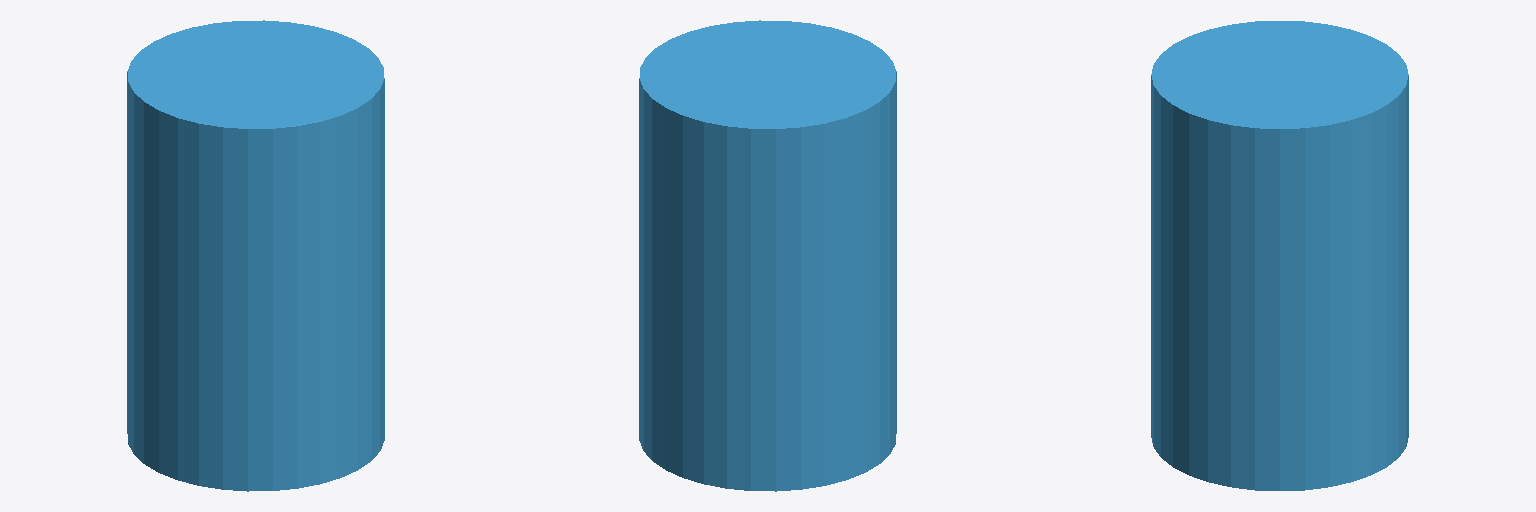
The robot description file, URDF, robot "service_roboter":
<?xml version="1.0" ?>
<!-- =================================================================================== -->
<!-- |    This document was autogenerated by xacro from /data/service_roboter.urdf.xacro | -->
<!-- |    EDITING THIS FILE BY HAND IS NOT RECOMMENDED                                 | -->
<!-- =================================================================================== -->
<robot name="service_roboter">
  <link name="base_link"/>
  <link name="barrel_link">
    <visual>
      <origin rpy="0.0 0.0 0.0" xyz="0.0 0.0 0.45"/>
      <geometry>
        <cylinder length="0.9" radius="0.29"/>
      </geometry>
    </visual>
    <collision>
      <origin rpy="0.0 0.0 0.0" xyz="0.0 0.0 0.45"/>
      <geometry>
        <cylinder length="0.9" radius="0.29"/>
      </geometry>
    </collision>
  </link>
  <joint name="barrel_joint" type="fixed">
    <parent link="base_link"/>
    <child link="barrel_link"/>
    <origin rpy="0.0 0.0 0.0" xyz="0.0 0.0 0.0"/>
  </joint>
  <link name="wheel_left_link">
    <visual>
      <origin rpy="1.5707963267948966 0.0 0.0" xyz="0.0 0.0 0.0"/>
      <geometry>
        <cylinder length="0.05" radius="0.15"/>
      </geometry>
    </visual>
  </link>
  <joint name="wheel_left_joint" type="continuous">
    <parent link="base_link"/>
    <child link="wheel_left_link"/>
    <axis xyz="0 1 0"/>
    <origin rpy="0.0 0.0 0.0" xyz="0.0 0.145 0.09999999999999999"/>
  </joint>
  <link name="wheel_right_link">
    <visual>
      <origin rpy="1.5707963267948966 0.0 0.0" xyz="0.0 0.0 0.0"/>
      <geometry>
        <cylinder length="0.05" radius="0.15"/>
      </geometry>
    </visual>
  </link>
  <joint name="wheel_right_joint" type="continuous">
    <parent link="base_link"/>
    <child link="wheel_right_link"/>
    <axis xyz="1 0 0"/>
    <origin rpy="0.0 0.0 0.0" xyz="0.0 -0.145 0.09999999999999999"/>
  </joint>
</robot>

--- Render facts (derived) ---
3 views of the same robot in one strip: view 1: azimuth 30°, elevation 25°; view 2: azimuth 150°, elevation 25°; view 3: azimuth 270°, elevation 25° (orthographic).
Robot: service_roboter — 4 links, 3 joints (2 continuous, 1 fixed); root link base_link; default pose: all joints at 0.
Links seen in each view (by area): view 1: barrel_link; view 2: barrel_link; view 3: barrel_link.
Link boxes in pixels (<box>): barrel_link: <box>127,20,384,491</box>; barrel_link: <box>639,20,896,491</box>; barrel_link: <box>1151,21,1408,490</box>.
Size in the robot's own frame: 0.58 by 0.58 by 0.95 metres.
Geometry: primitives only (box / cylinder / sphere), no mesh files.